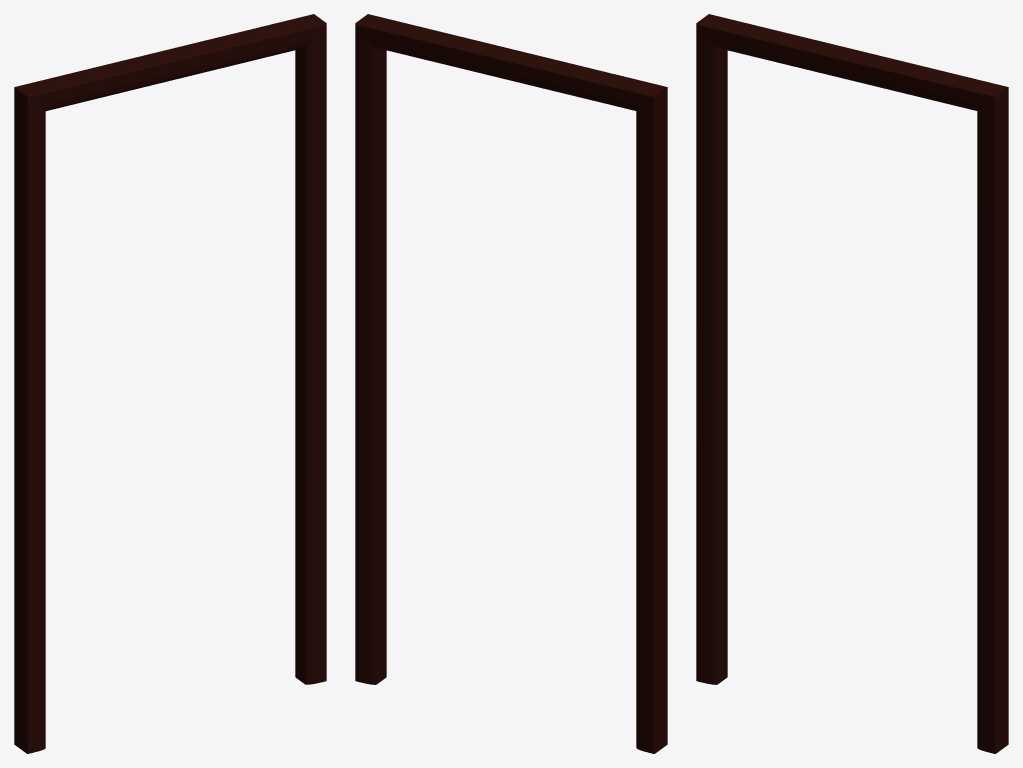
File: DoorTrim.FBX
The picture shows the model from 3 angles, left to right: view 1: azimuth 30°, elevation 25°; view 2: azimuth 150°, elevation 25°; view 3: azimuth 330°, elevation 25°; orthographic projection.
Visible parts, largest first — view 1: DoorTrim; view 2: DoorTrim; view 3: DoorTrim.
Boxes of the visible parts, x1,y1,x2,y2 form: DoorTrim: [14, 14, 326, 753]; DoorTrim: [355, 14, 667, 753]; DoorTrim: [696, 14, 1008, 753].
Bounding box in the file's own units: 38.8 × 81.31 × 3.07.
